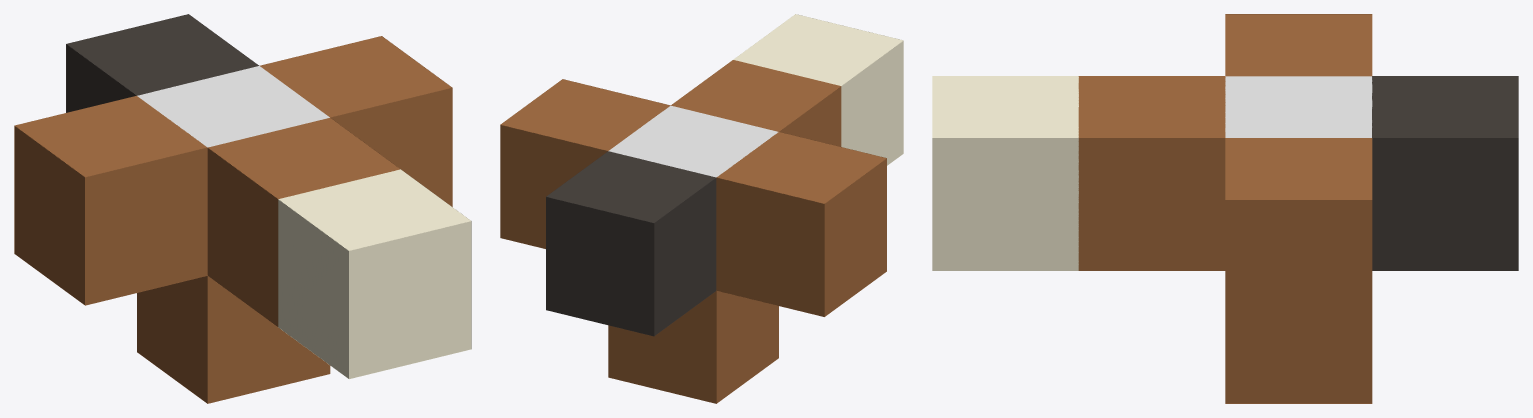
File: FaeWeapon.obj
The picture shows the model from 3 angles, left to right: view 1: azimuth 30°, elevation 25°; view 2: azimuth 150°, elevation 25°; view 3: azimuth 270°, elevation 25°; orthographic projection. The views are drawn at different scales.
Visible parts, largest first — view 1: FaeWeapon; view 2: FaeWeapon; view 3: FaeWeapon.
Boxes of the visible parts, x1=… form: FaeWeapon: x1=14, y1=14, x2=471, y2=403; FaeWeapon: x1=500, y1=14, x2=903, y2=403; FaeWeapon: x1=932, y1=14, x2=1518, y2=403.
Bounding box in the file's own units: 3 × 2 × 4.
Materials: 1 (1 with a texture image).
